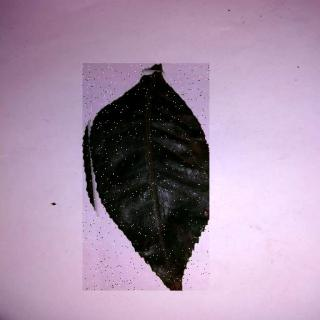Bird Eye Spot: (84, 64, 211, 292)
